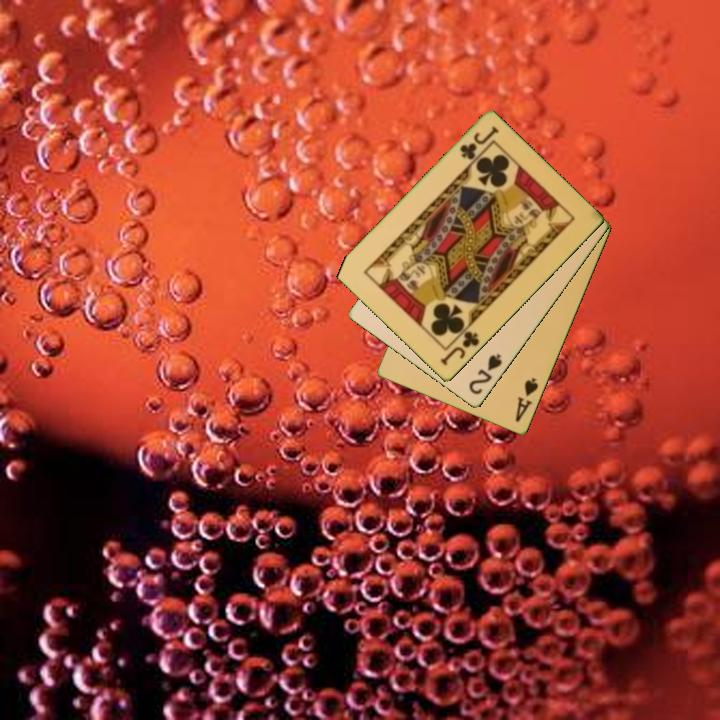2s: (465, 350, 505, 398)
As: (512, 375, 541, 425)
Jc: (437, 328, 482, 369), (456, 123, 502, 163)
